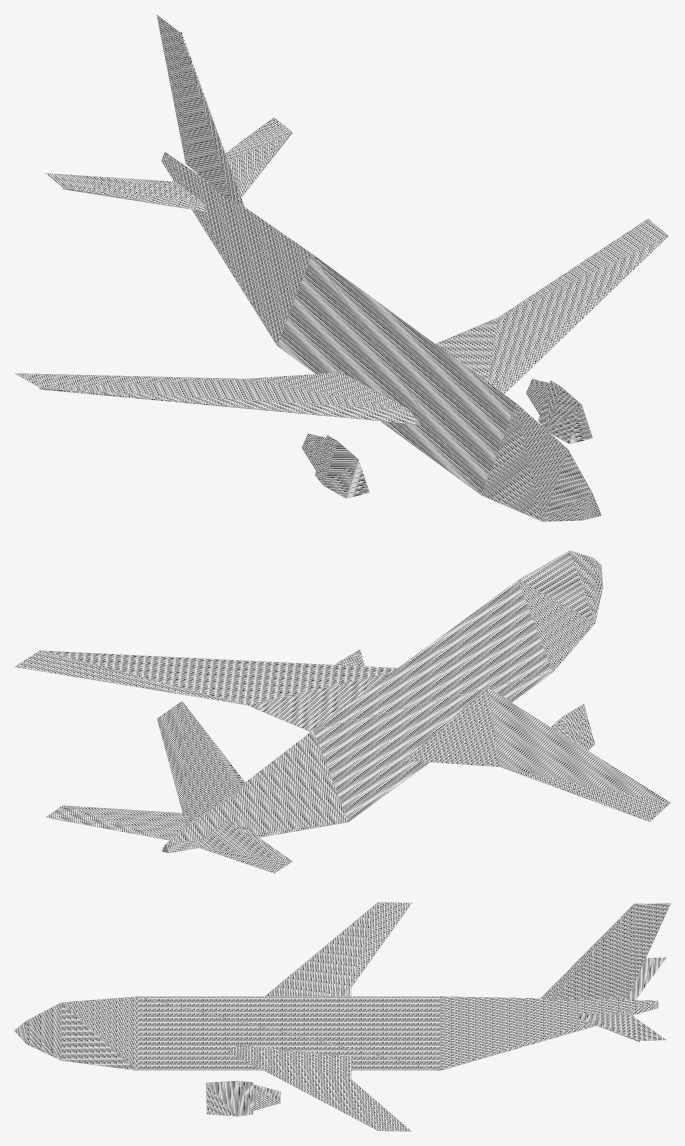
The model's file is TFS_Airbus_A300-600_PW_MSFS_LOD1.gltf.
The picture shows the model from 3 angles, top to bottom: view 1: azimuth 30°, elevation 25°; view 2: azimuth 150°, elevation 25°; view 3: azimuth 270°, elevation 25°; orthographic projection. The views are drawn at different scales.
Parts seen in each view (by area): view 1: node1; view 2: node1; view 3: node1.
Boxes of the visible parts, box(x1,y1,x2,y2) form: node1: box(15, 15, 668, 521); node1: box(14, 550, 670, 873); node1: box(14, 902, 670, 1131).
Size of the model in its own units: 44.76 by 15.29 by 54.24.
